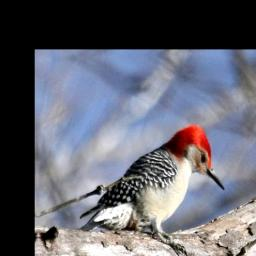Woodpecker: (71, 116, 230, 256)
